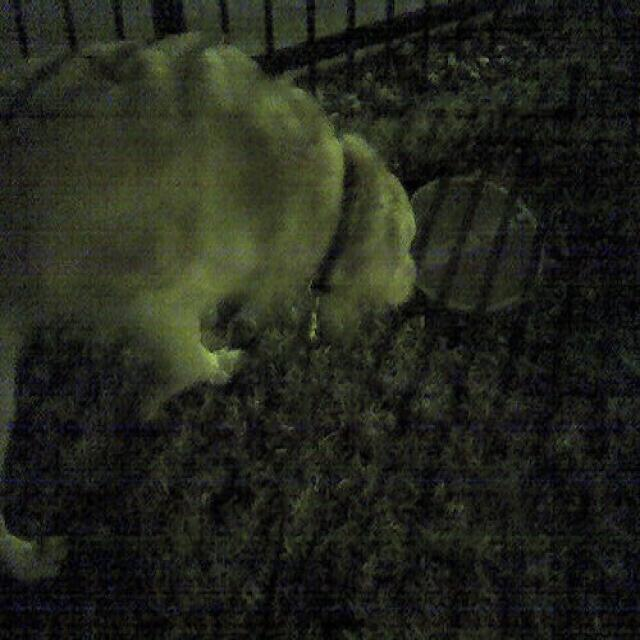Dog: (17, 17, 446, 456)
